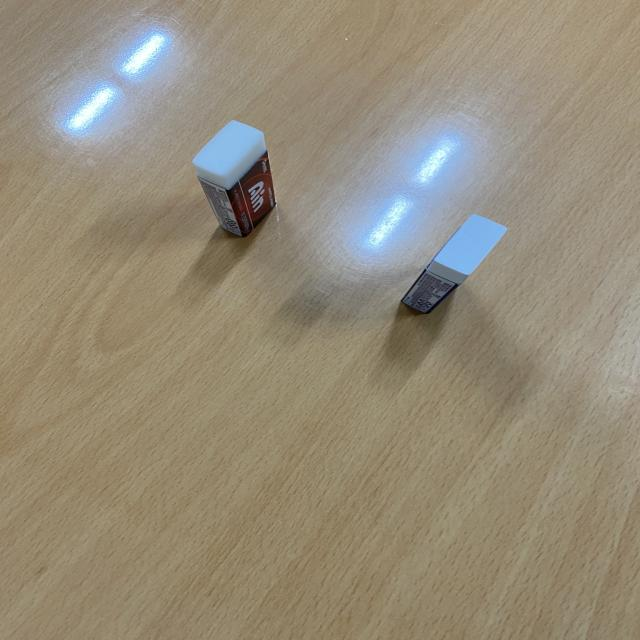blue: (402, 213, 509, 319)
red: (190, 113, 282, 241)
